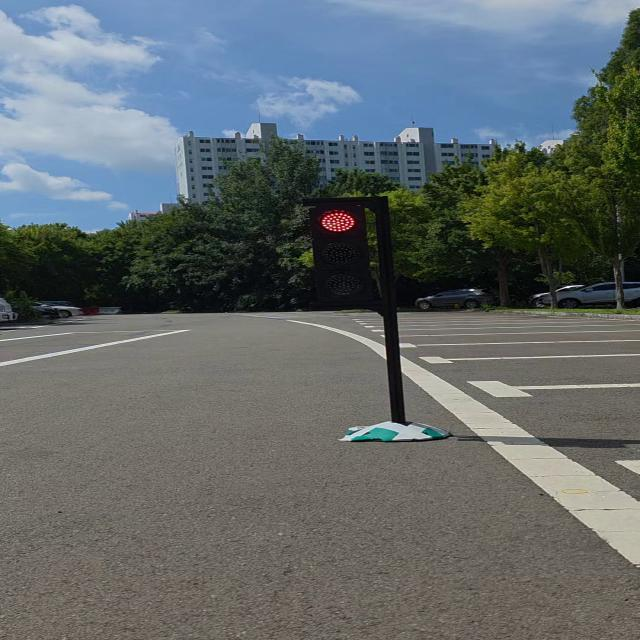red: (296, 197, 384, 294)
